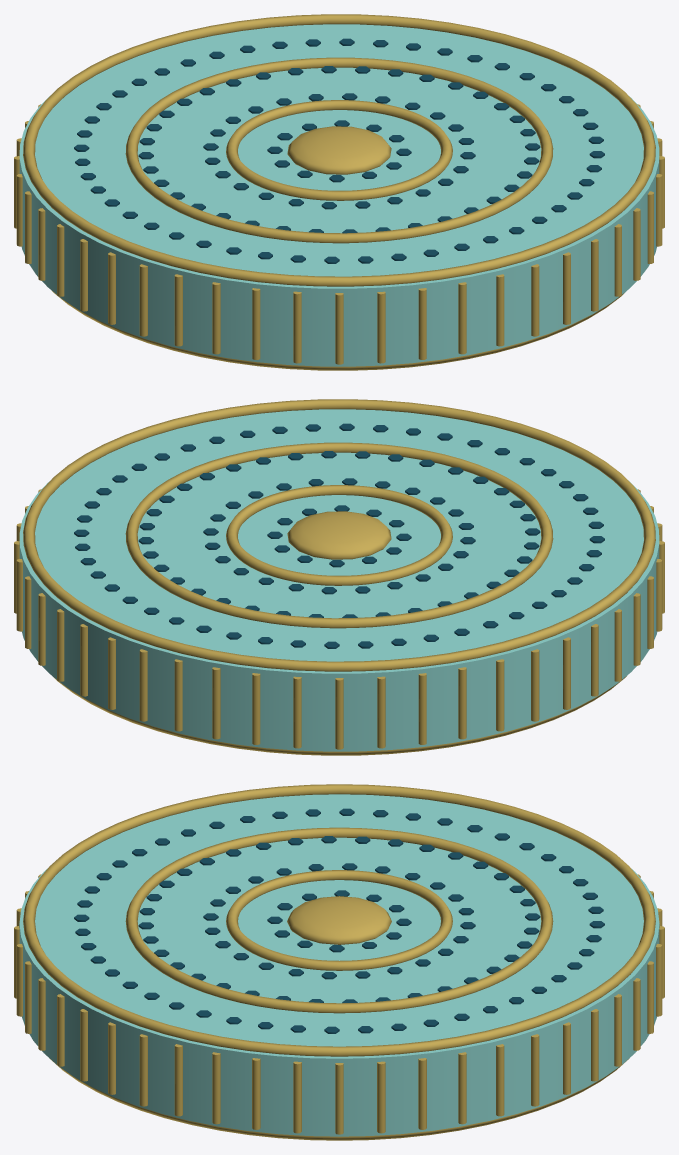
Rendered from diatomea.glb.
The picture shows the model from 3 angles, top to bottom: view 1: azimuth 30°, elevation 25°; view 2: azimuth 150°, elevation 25°; view 3: azimuth 270°, elevation 25°; orthographic projection.
Parts seen in each view (by area): view 1: Frustula_silice, Pigmento_dorado, Poros; view 2: Frustula_silice, Pigmento_dorado, Poros; view 3: Frustula_silice, Pigmento_dorado, Poros.
Boxes of the visible parts, x1=… form: Frustula_silice: x1=19, y1=24, x2=659, y2=366; Pigmento_dorado: x1=14, y1=14, x2=664, y2=370; Poros: x1=74, y1=38, x2=604, y2=263; Frustula_silice: x1=19, y1=409, x2=659, y2=751; Pigmento_dorado: x1=14, y1=399, x2=664, y2=755; Poros: x1=74, y1=423, x2=604, y2=648; Frustula_silice: x1=19, y1=794, x2=659, y2=1136; Pigmento_dorado: x1=14, y1=784, x2=664, y2=1140; Poros: x1=74, y1=808, x2=604, y2=1033.
Size of the model in its own units: 2.73 by 0.4944 by 2.73.
